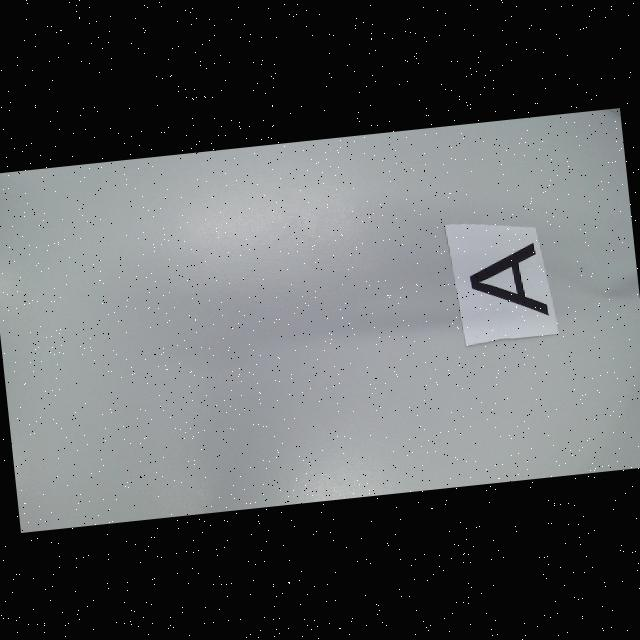FAKE: (466, 240, 550, 322)
